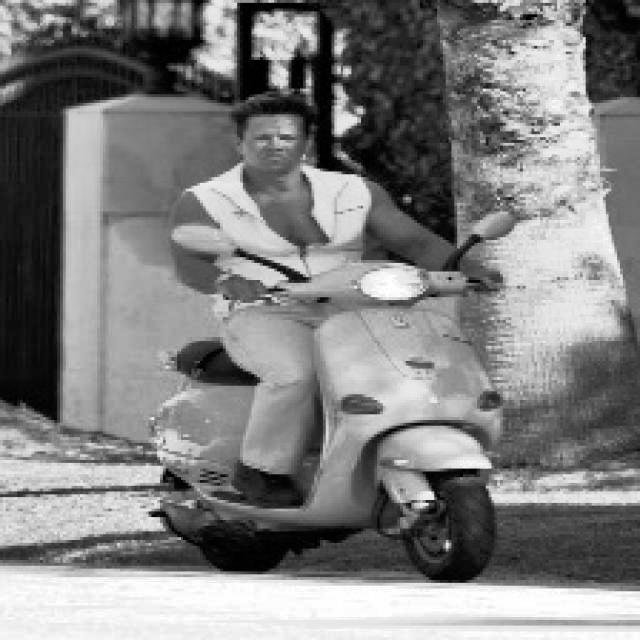Bike: (121, 257, 525, 593)
